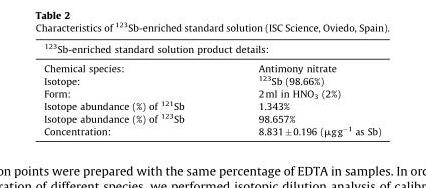table: (43, 42, 380, 143)
table column: (43, 42, 220, 143), (220, 42, 380, 143)
table column header: (43, 42, 380, 74)
table row: (43, 124, 380, 143), (43, 42, 380, 58), (43, 58, 380, 74), (43, 74, 380, 87), (43, 111, 380, 124), (43, 87, 380, 99), (43, 99, 380, 111)
table spanning cell: (43, 42, 380, 58)
